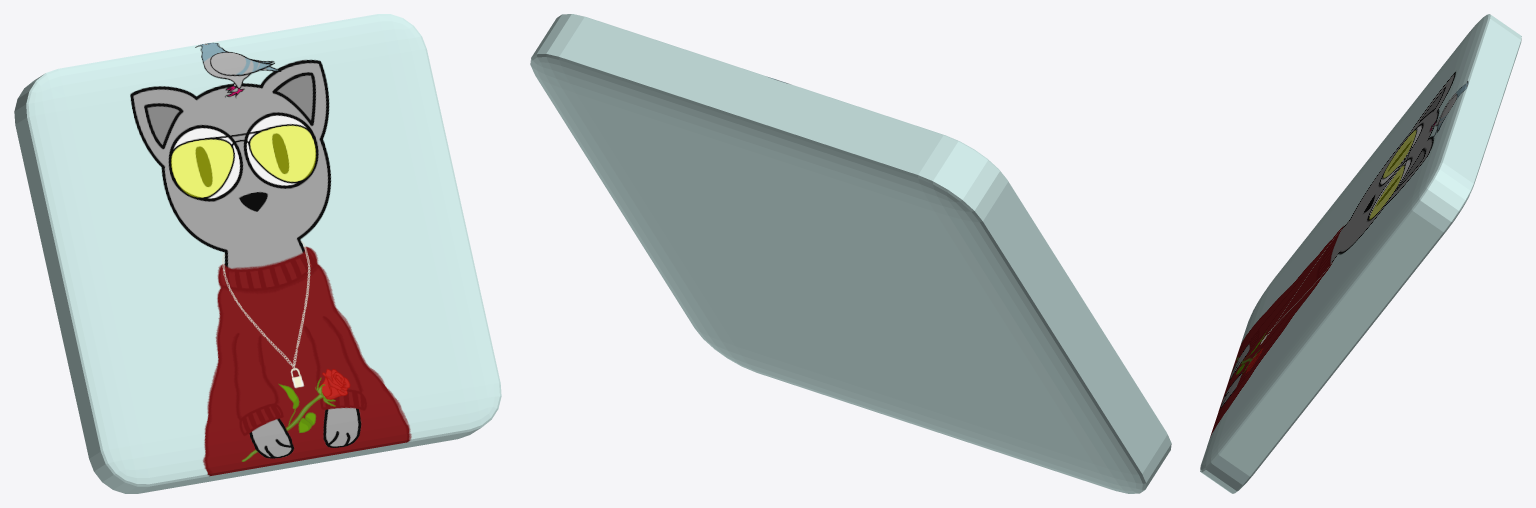
3 renders of one model, left to right at view 1: azimuth 30°, elevation 25°; view 2: azimuth 150°, elevation 25°; view 3: azimuth 270°, elevation 25°, orthographic. The views are drawn at different scales.
Visible parts, largest first — view 1: OG1.002; view 2: OG1.002; view 3: OG1.002.
Part boxes in pixels (left/top/right/bottom): OG1.002: left=14, top=14, right=501, bottom=493; OG1.002: left=530, top=14, right=1171, bottom=493; OG1.002: left=1200, top=14, right=1521, bottom=493.
Size of the model in its own units: 1.01 by 0.8286 by 0.712.
1 material, 1 textured.
